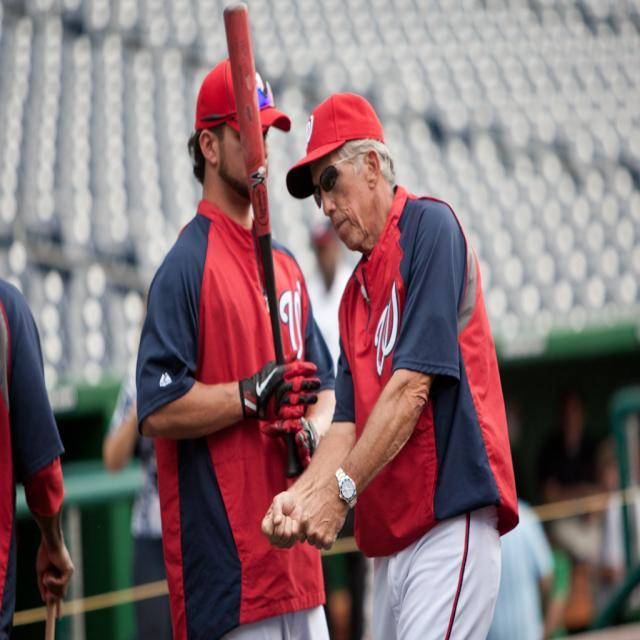Hat: (285, 91, 384, 199), (193, 54, 291, 128)
